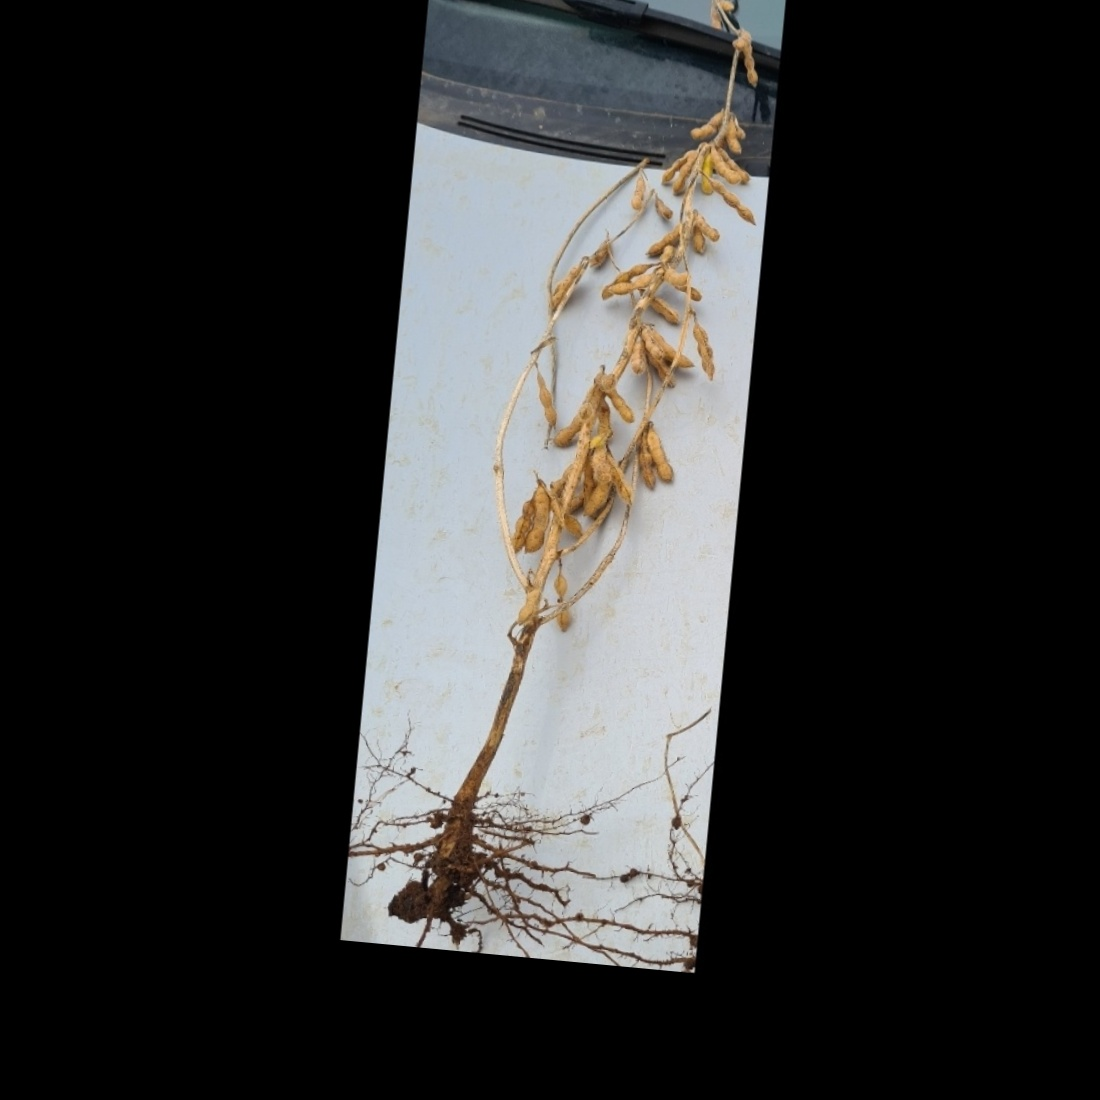pod: (520, 362, 568, 432), (683, 316, 725, 389), (517, 477, 555, 556), (705, 177, 762, 227), (640, 427, 683, 489), (505, 493, 542, 556), (597, 378, 640, 427), (704, 145, 749, 187), (598, 268, 655, 298), (734, 40, 764, 91)
soy: (366, 0, 781, 954)
